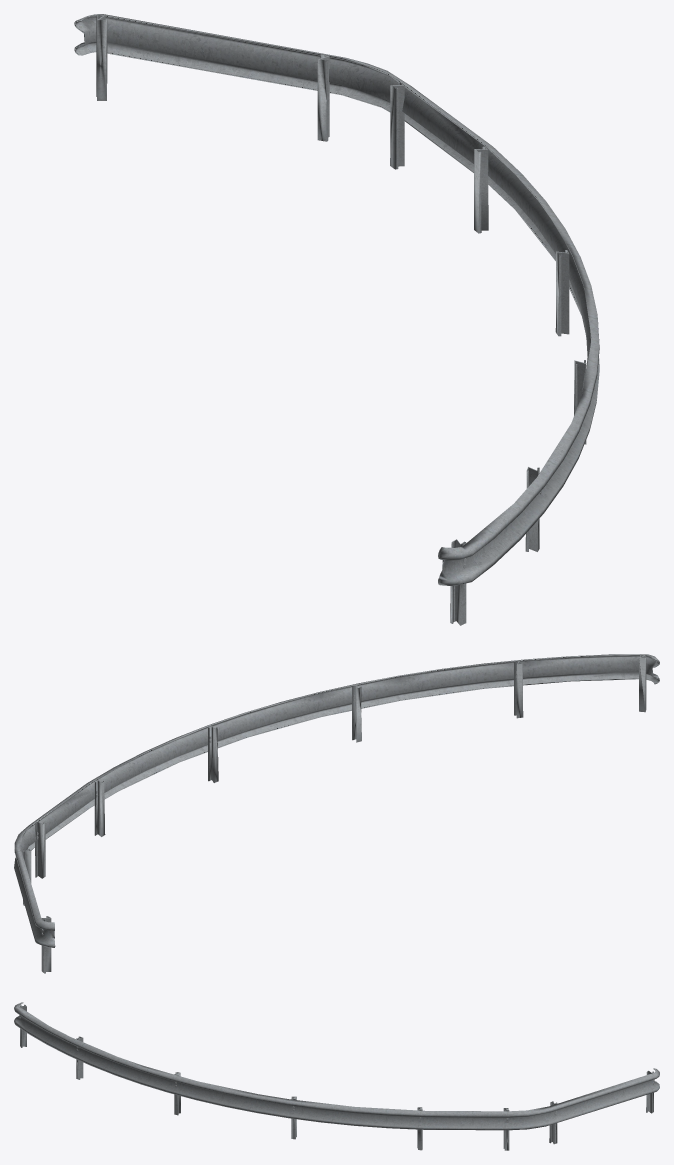
The model's file is road_safety_barrier_bend_b.glb.
3 renders of one model, top to bottom at view 1: azimuth 30°, elevation 25°; view 2: azimuth 150°, elevation 25°; view 3: azimuth 270°, elevation 25°, orthographic. The views are drawn at different scales.
Visible parts, largest first — view 1: road_safety_barrier_bend_b; view 2: road_safety_barrier_bend_b; view 3: road_safety_barrier_bend_b.
Boxes of the visible parts, x1,y1,x2,y2 form: road_safety_barrier_bend_b: (74,14,599,625); road_safety_barrier_bend_b: (14,654,659,973); road_safety_barrier_bend_b: (14,1002,659,1150).
Size of the model in its own units: 6.12 by 1.03 by 14.84.
Materials: 1 (1 with a texture image).
